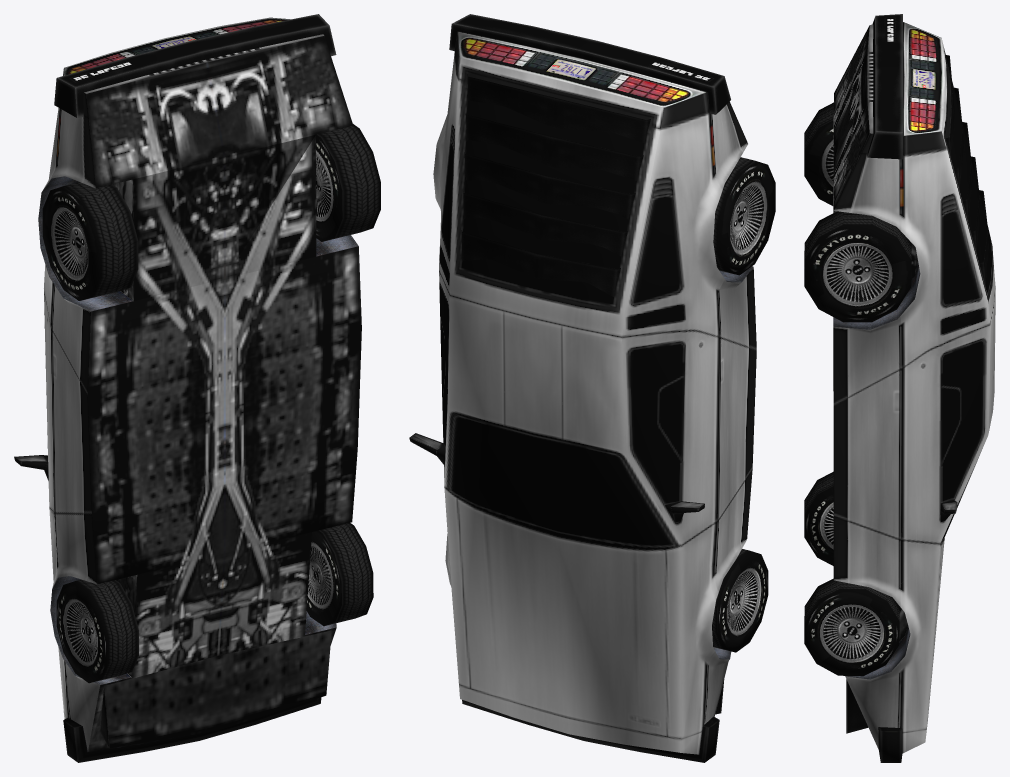
Rendered from Delorean.obj.
The picture shows the model from 3 angles, left to right: view 1: azimuth 30°, elevation 25°; view 2: azimuth 150°, elevation 25°; view 3: azimuth 270°, elevation 25°; orthographic projection. The views are drawn at different scales.
Visible parts, largest first — view 1: DELOREAN_Mesh.005, wheel3_Mesh.002, wheel1_Mesh, wheel4_Mesh.004, wheel2_Mesh.003; view 2: DELOREAN_Mesh.005, window_grid_Mesh.001, wheel3_Mesh.002, wheel1_Mesh; view 3: DELOREAN_Mesh.005, wheel4_Mesh.004, wheel2_Mesh.003, wheel3_Mesh.002, wheel1_Mesh, window_grid_Mesh.001.
Part boxes in pixels (left/top/right/bottom): DELOREAN_Mesh.005: left=14, top=14, right=361, bottom=762; wheel3_Mesh.002: left=42, top=182, right=138, bottom=300; wheel1_Mesh: left=56, top=579, right=138, bottom=683; wheel4_Mesh.004: left=316, top=124, right=380, bottom=241; wheel2_Mesh.003: left=306, top=523, right=373, bottom=625; DELOREAN_Mesh.005: left=409, top=14, right=756, bottom=762; window_grid_Mesh.001: left=461, top=74, right=650, bottom=296; wheel3_Mesh.002: left=713, top=157, right=775, bottom=275; wheel1_Mesh: left=712, top=549, right=768, bottom=652; DELOREAN_Mesh.005: left=833, top=14, right=995, bottom=762; wheel4_Mesh.004: left=804, top=211, right=911, bottom=322; wheel2_Mesh.003: left=804, top=578, right=899, bottom=676; wheel3_Mesh.002: left=804, top=102, right=833, bottom=205; wheel1_Mesh: left=804, top=471, right=833, bottom=565; window_grid_Mesh.001: left=945, top=55, right=989, bottom=286.
Size of the model in its own units: 0.9961 by 2.27 by 0.6109.
1 material, 1 textured.
